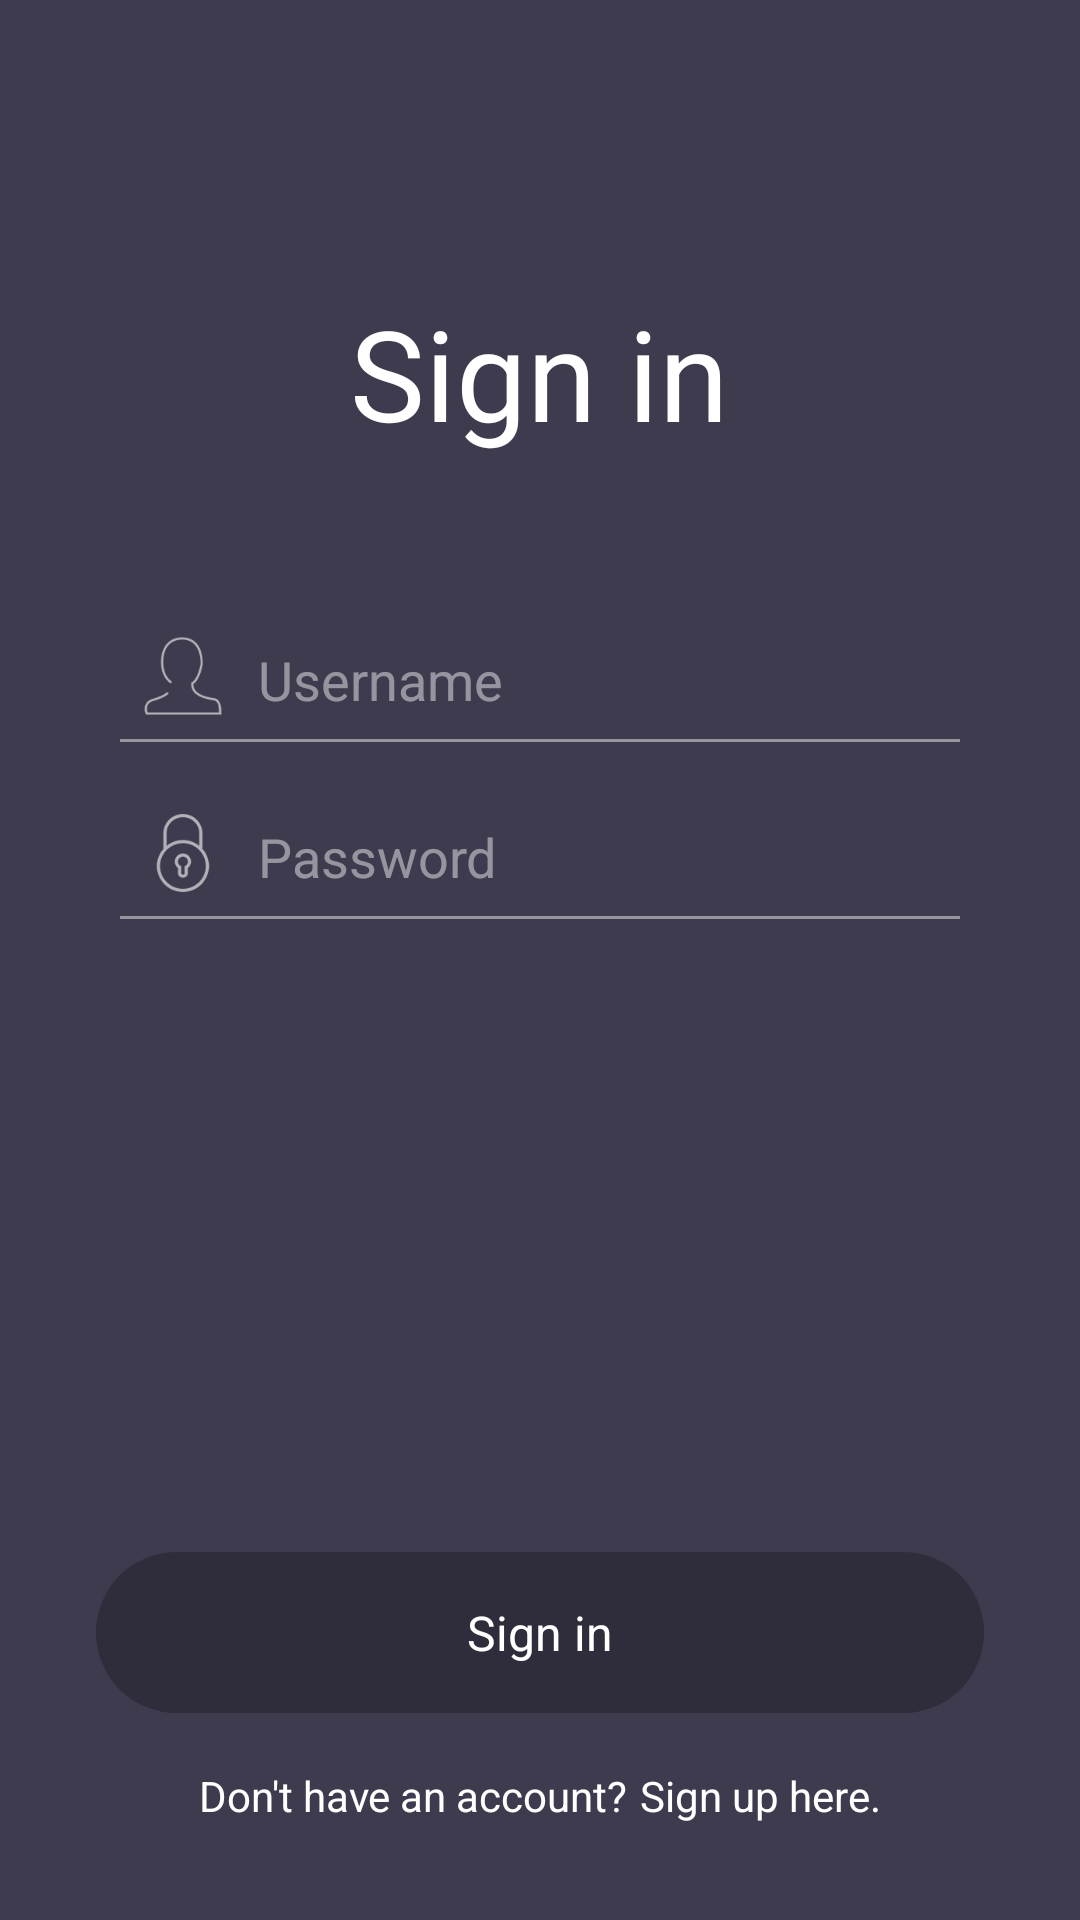

Icon bounding boxes for this 1080px×1920px phone screenshot, format (x1, y1, x2, y2):
userline: (144, 637, 222, 715)
